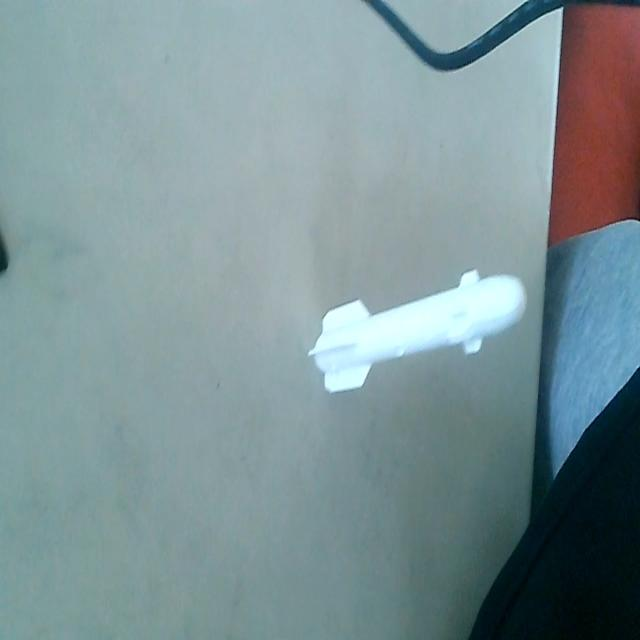Rocket: (307, 266, 529, 394)
